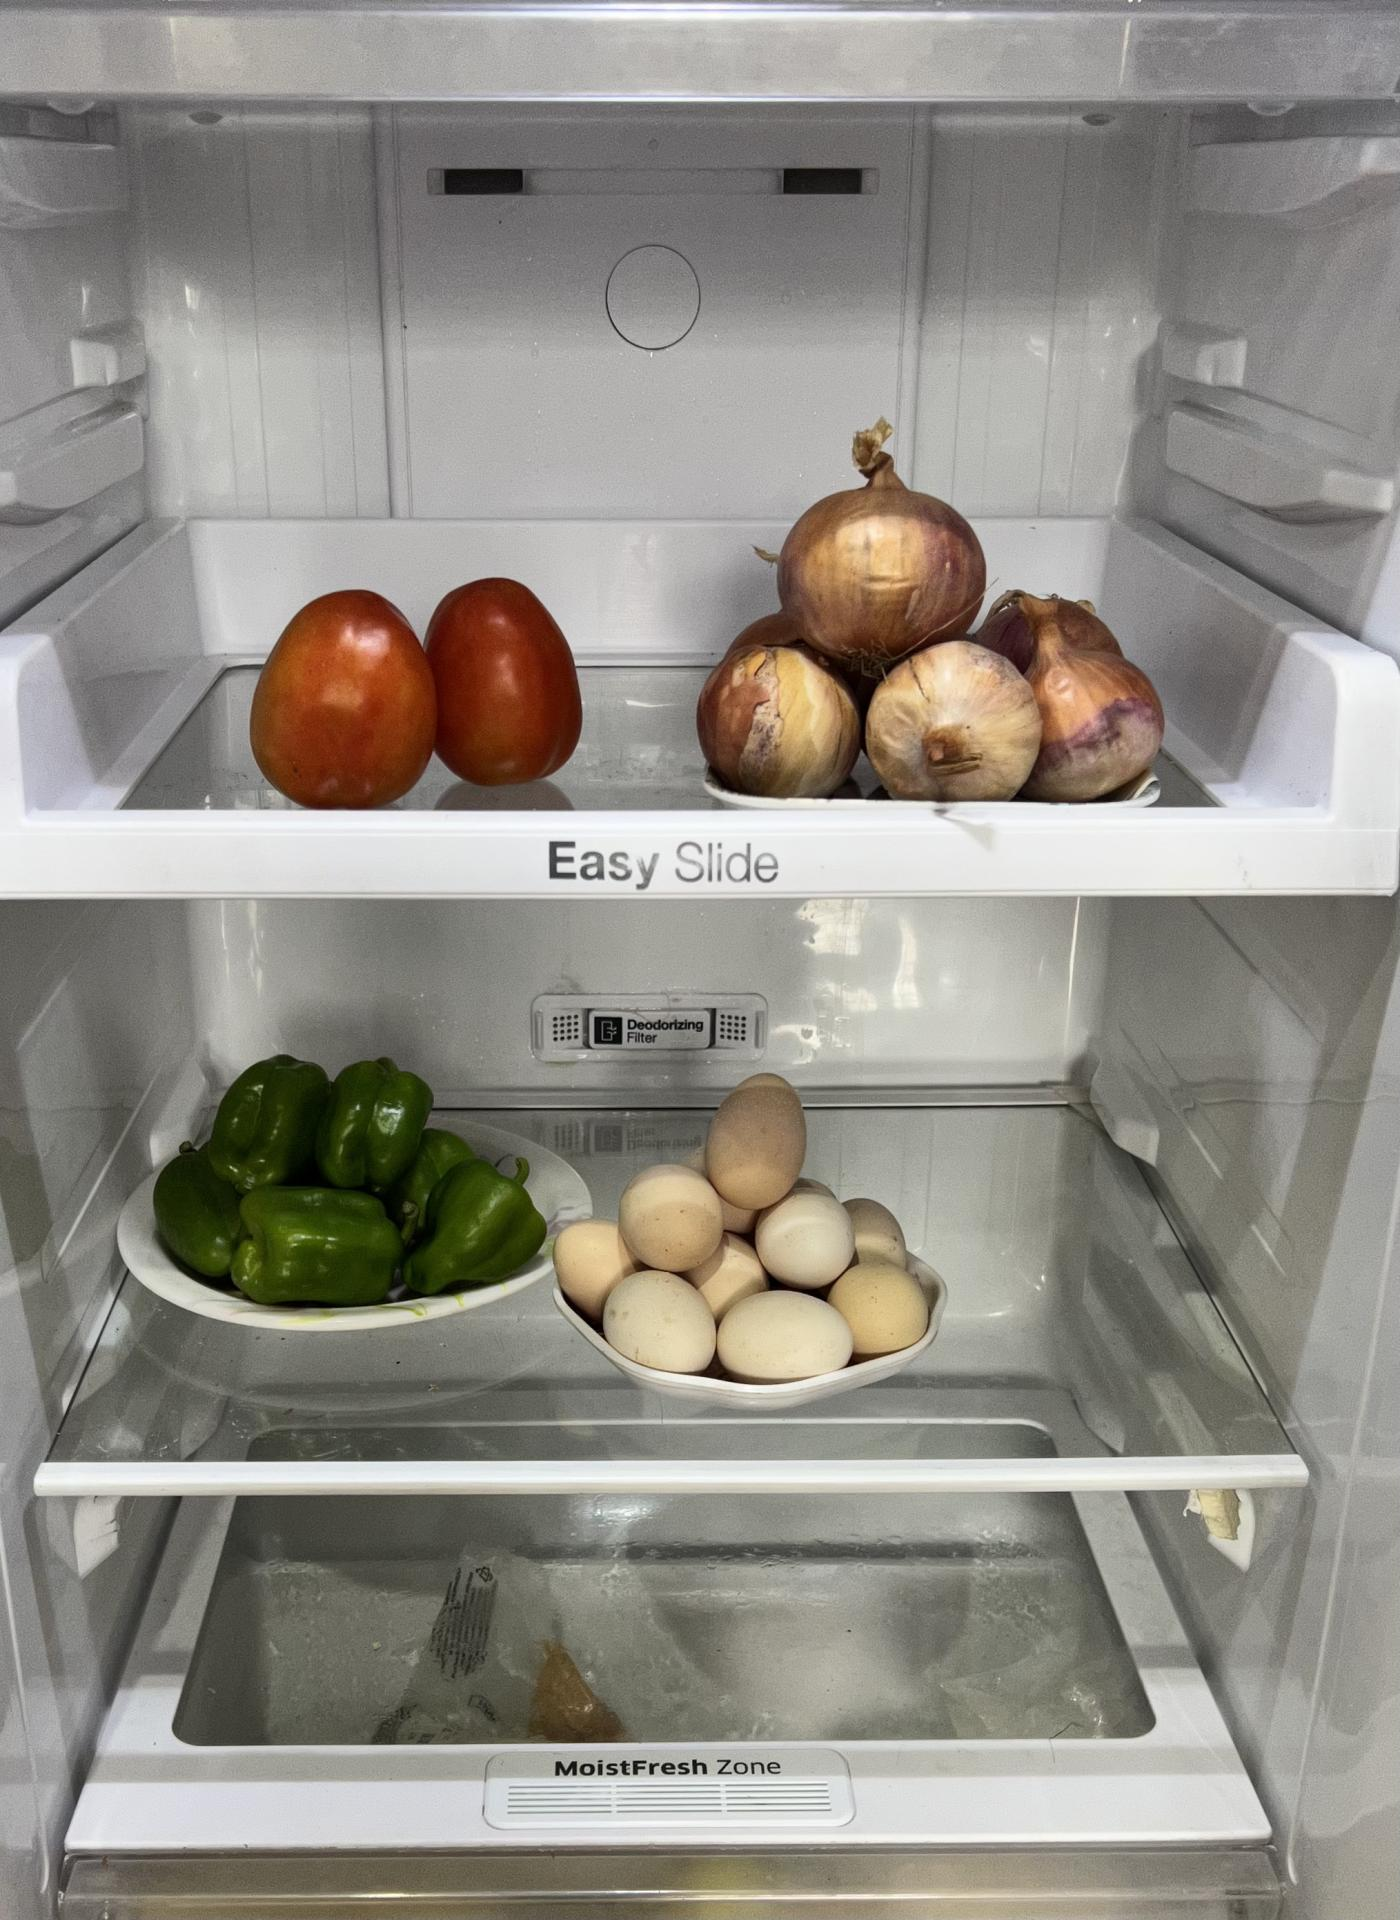capsicum: (142, 1045, 538, 1307)
egg: (564, 1102, 942, 1386)
onion: (695, 483, 1188, 811)
tomato: (256, 555, 581, 805)
